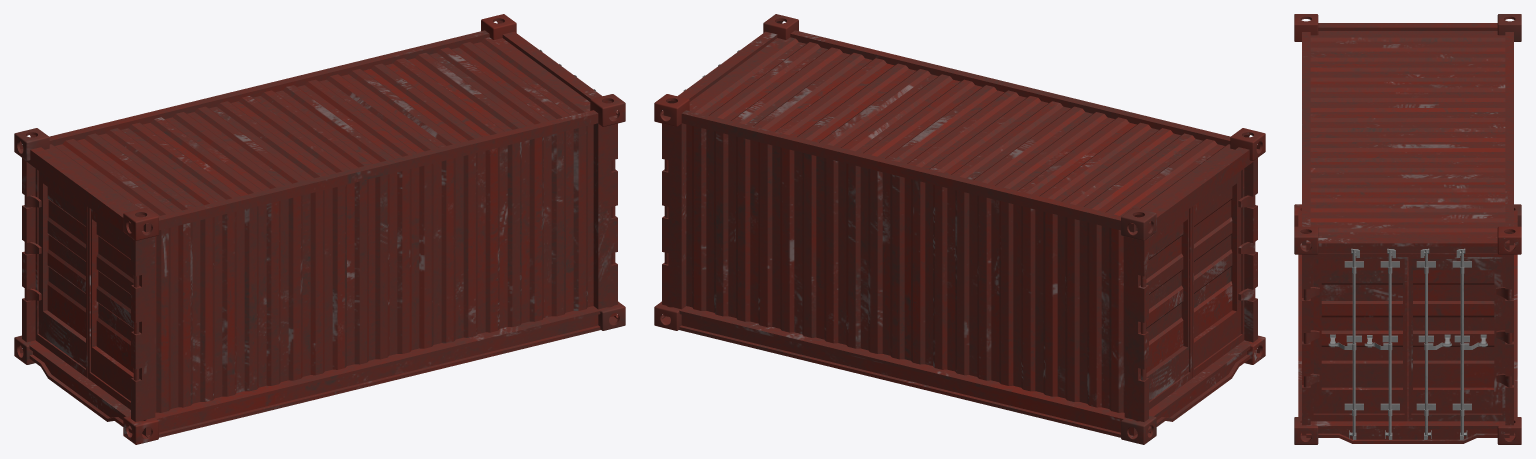
Rendered from Cargo Container.gltf.
3 views of the same model, side by side, from view 1: azimuth 30°, elevation 25°; view 2: azimuth 150°, elevation 25°; view 3: azimuth 270°, elevation 25° (orthographic). The views are drawn at different scales.
Parts seen in each view (by area): view 1: cargo_container_grp; view 2: cargo_container_grp; view 3: cargo_container_grp.
Part boxes in pixels (x1=…): cargo_container_grp: x1=14, y1=14, x2=625, y2=444; cargo_container_grp: x1=654, y1=14, x2=1265, y2=444; cargo_container_grp: x1=1294, y1=14, x2=1521, y2=444.
Bounding box in the file's own units: 652 × 282 × 279.
Materials: 1 (1 with a texture image).
